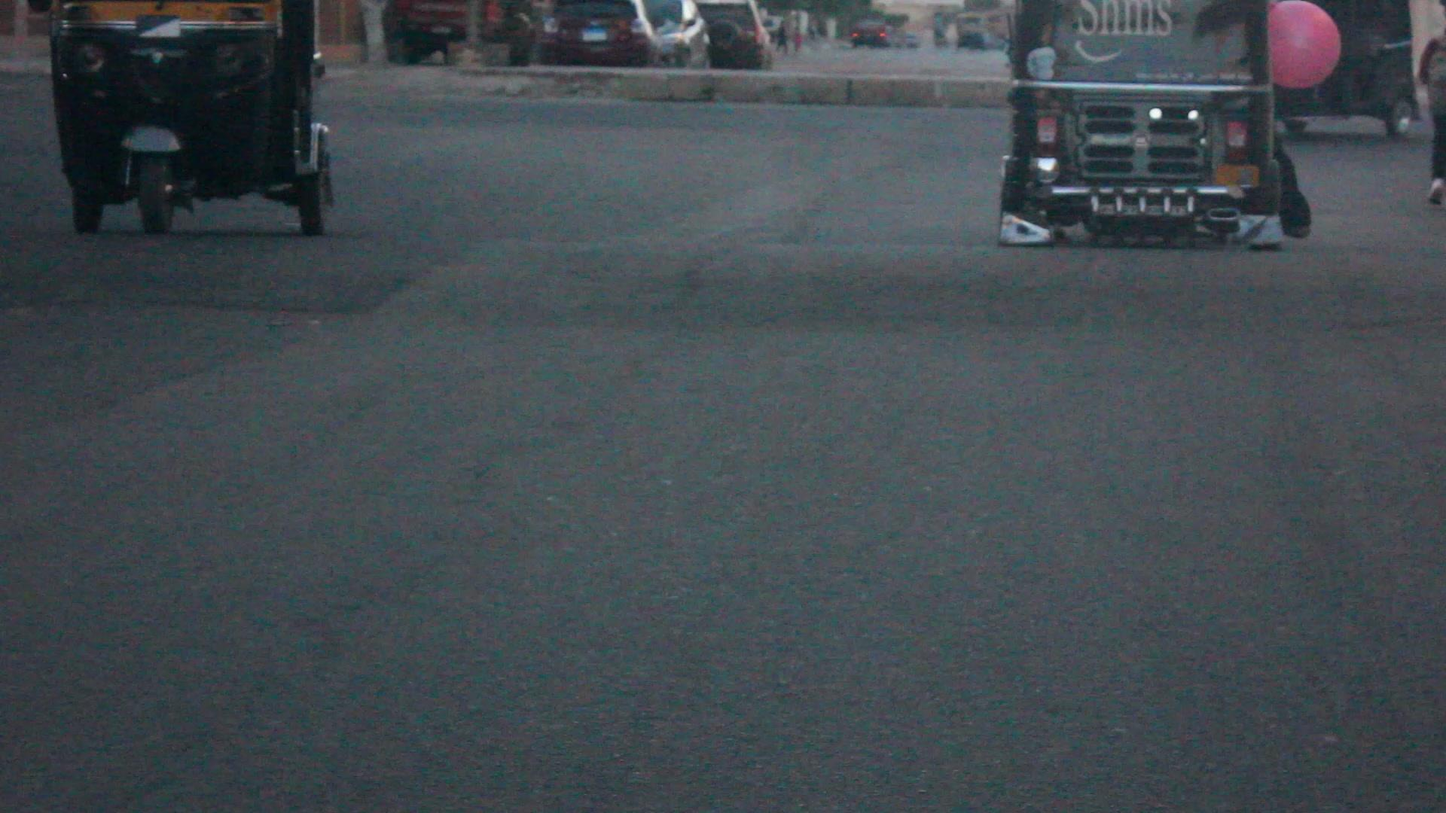Bump: (0, 226, 1446, 327)
